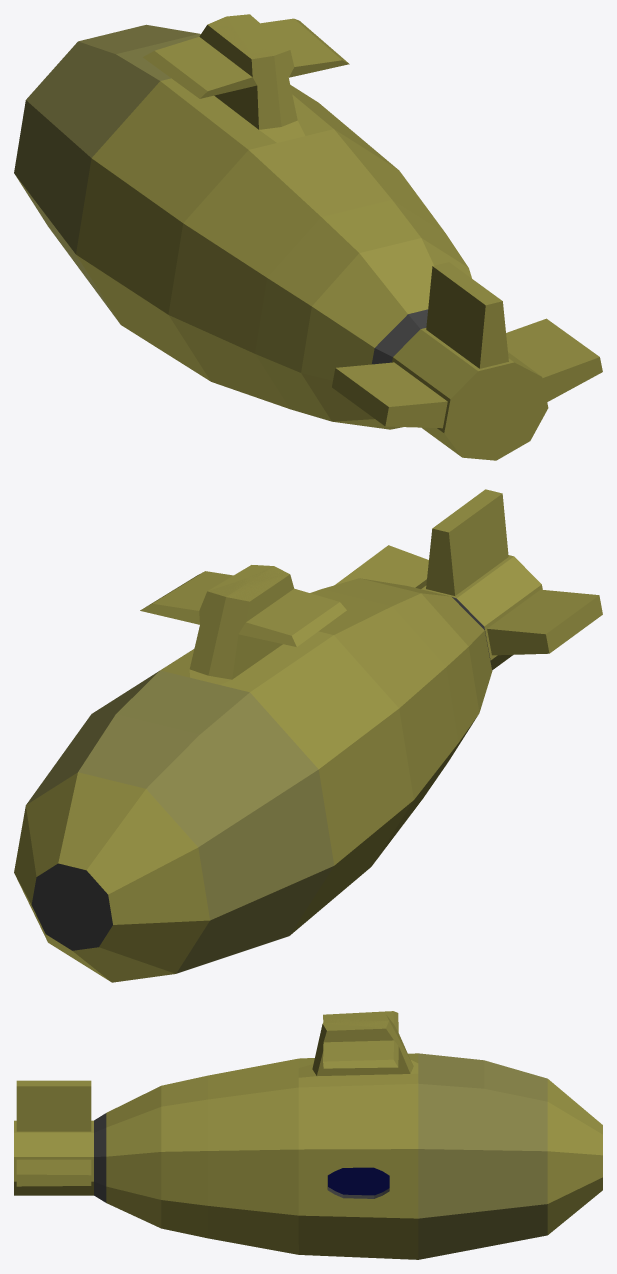
File: Submarine.fbx
The picture shows the model from 3 angles, top to bottom: view 1: azimuth 30°, elevation 25°; view 2: azimuth 150°, elevation 25°; view 3: azimuth 270°, elevation 25°; orthographic projection. The views are drawn at different scales.
Parts seen in each view (by area): view 1: Cylinder; view 2: Cylinder; view 3: Cylinder.
Part boxes in pixels (box(x1,y1,x2,y2)): Cylinder: box(14, 14, 602, 460); Cylinder: box(14, 489, 602, 982); Cylinder: box(14, 1011, 602, 1259).
Size of the model in its own units: 218 by 270 by 618.
